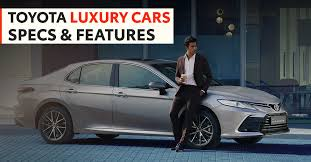car: (13, 57, 287, 149)
